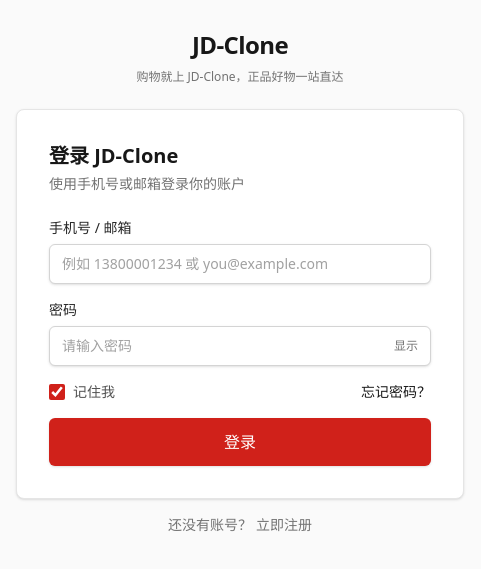
Test: LoginPage 集成测试 › 表单校验：空字段阻止提交
Click the button "登录" at (240, 442), box left=49, top=418, right=431, bottom=466
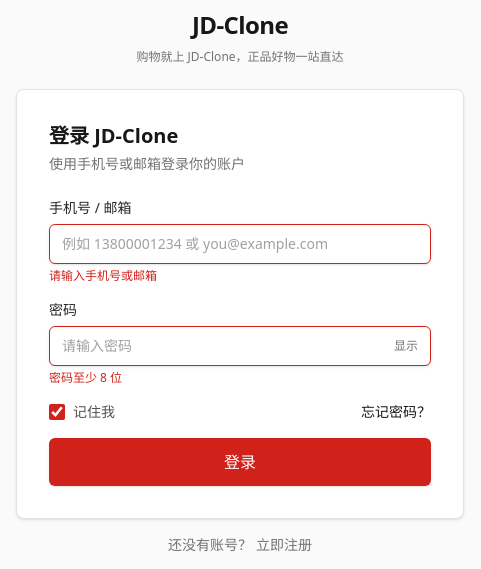
Expected: the text "请输入手机号或邮箱" is shown, left=49, top=267, right=157, bottom=284
